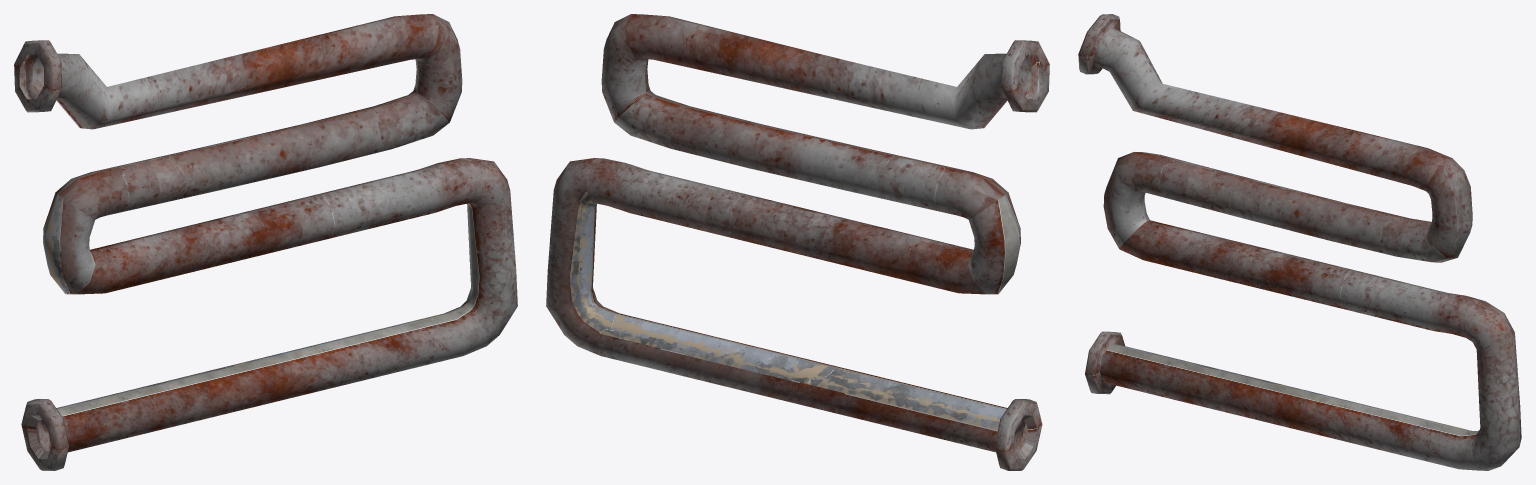
The model's file is pipe.fbx.
3 renders of one model, left to right at view 1: azimuth 30°, elevation 25°; view 2: azimuth 150°, elevation 25°; view 3: azimuth 330°, elevation 25°, orthographic. The views are drawn at different scales.
Visible parts, largest first — view 1: Line003; view 2: Line003; view 3: Line003.
Boxes of the visible parts, x1,y1,x2,y2 form: Line003: [14, 14, 517, 470]; Line003: [546, 14, 1049, 470]; Line003: [1078, 14, 1521, 470].
Size of the model in its own units: 1979 by 1661 by 271.
